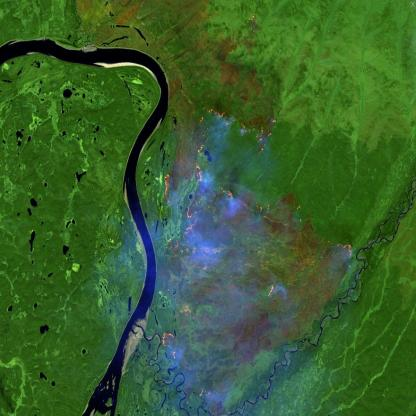fire: (158, 98, 355, 376)
